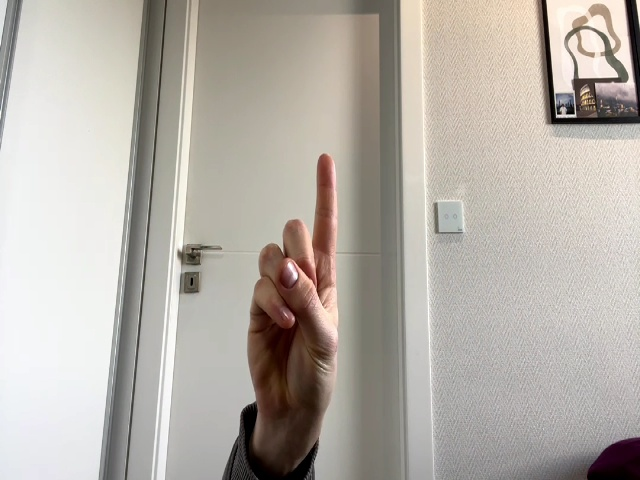Z: (248, 154, 339, 415)
